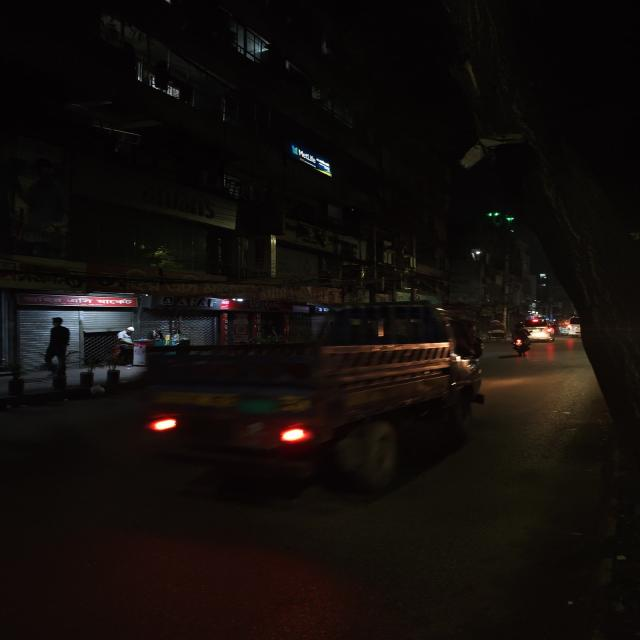car: (525, 320, 557, 342), (564, 318, 582, 338)
motorcycle: (506, 321, 536, 359)
pedestrian: (41, 318, 74, 372)
pickup_van: (132, 290, 488, 492)
rickshaw: (483, 318, 508, 344)
